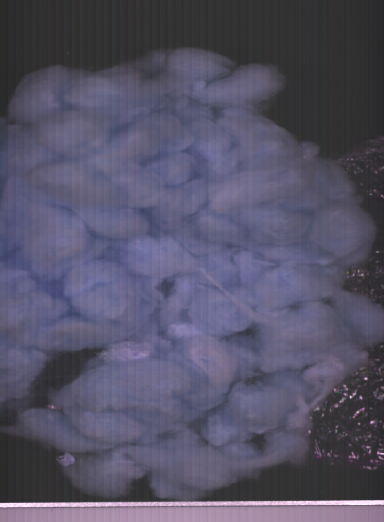Cotton: (40, 137, 144, 215), (203, 178, 287, 238), (75, 87, 157, 131), (153, 137, 188, 232), (95, 368, 177, 408), (203, 136, 293, 170), (76, 272, 136, 317), (177, 282, 234, 328), (50, 418, 126, 443), (1, 298, 47, 339), (268, 317, 317, 354), (28, 228, 86, 259), (155, 452, 214, 480), (239, 392, 288, 423), (249, 271, 314, 292), (195, 248, 236, 279), (135, 243, 184, 266), (82, 464, 129, 485), (321, 216, 353, 244)
